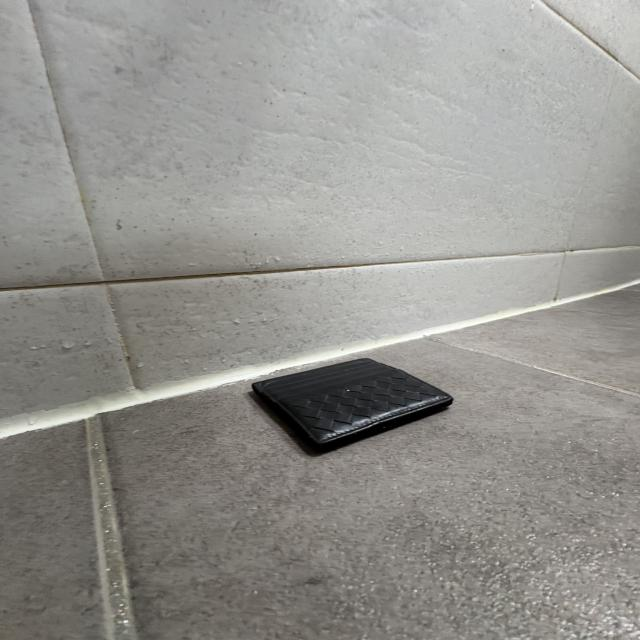wallet: (250, 356, 453, 460)
